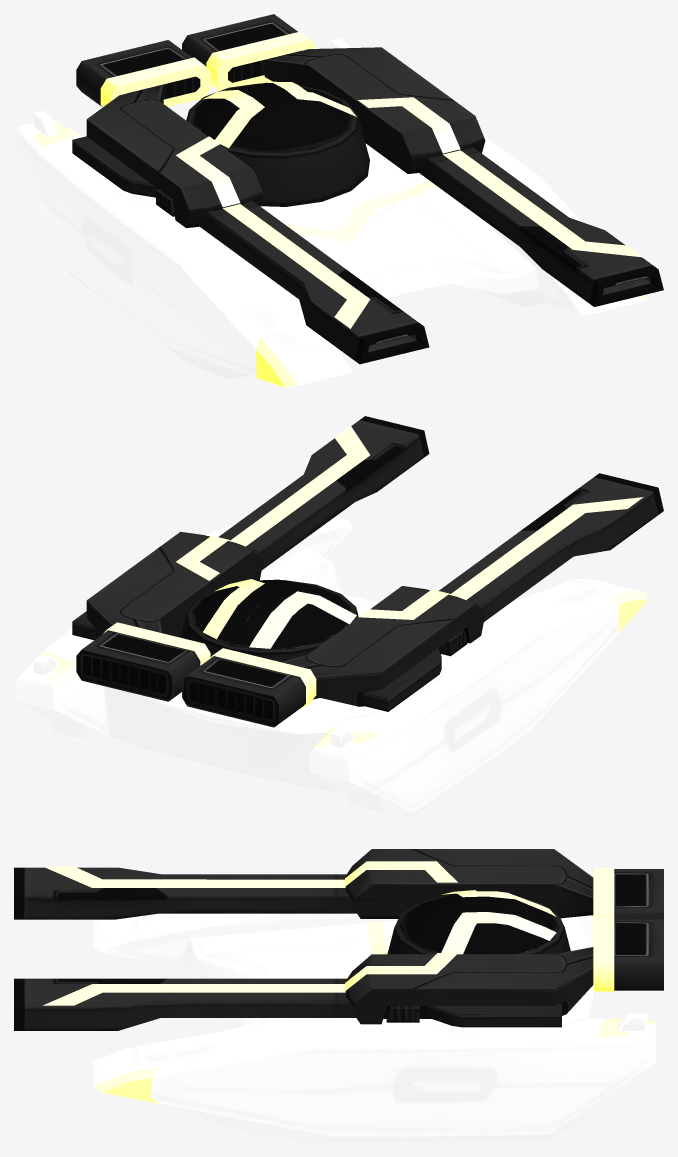
File: double_turret_clu_light_tank.glb
The picture shows the model from 3 angles, top to bottom: view 1: azimuth 30°, elevation 25°; view 2: azimuth 150°, elevation 25°; view 3: azimuth 270°, elevation 25°; orthographic projection. The views are drawn at different scales.
Parts seen in each view (by area): view 1: Mesh_0002_Tex_0000_0.dds_0, Mesh_0013_Tex_0011_0.dds_0, Mesh_0029_Tex_0027_0.dds_0, Mesh_0027_Tex_0027_0.dds_0; view 2: Mesh_0002_Tex_0000_0.dds_0, Mesh_0013_Tex_0011_0.dds_0, Mesh_0029_Tex_0027_0.dds_0, Mesh_0027_Tex_0027_0.dds_0; view 3: Mesh_0013_Tex_0011_0.dds_0, Mesh_0002_Tex_0000_0.dds_0, Mesh_0029_Tex_0027_0.dds_0, Mesh_0027_Tex_0027_0.dds_0.
Part boxes in pixels (x1,y1,x2,y2): Mesh_0002_Tex_0000_0.dds_0: (72,14,663,364); Mesh_0013_Tex_0011_0.dds_0: (14,38,646,387); Mesh_0029_Tex_0027_0.dds_0: (100,31,642,328); Mesh_0027_Tex_0027_0.dds_0: (32,119,647,387); Mesh_0002_Tex_0000_0.dds_0: (72,416,663,727); Mesh_0013_Tex_0011_0.dds_0: (14,516,640,820); Mesh_0029_Tex_0027_0.dds_0: (103,425,643,709); Mesh_0027_Tex_0027_0.dds_0: (32,591,647,747); Mesh_0013_Tex_0011_0.dds_0: (93,913,656,1142); Mesh_0002_Tex_0000_0.dds_0: (14,849,663,1030); Mesh_0029_Tex_0027_0.dds_0: (43,861,614,1005); Mesh_0027_Tex_0027_0.dds_0: (93,919,655,1103).
Bounding box in the file's own units: 0.1599 × 0.0673 × 0.251.
Materials: 11 (2 with a texture image).
